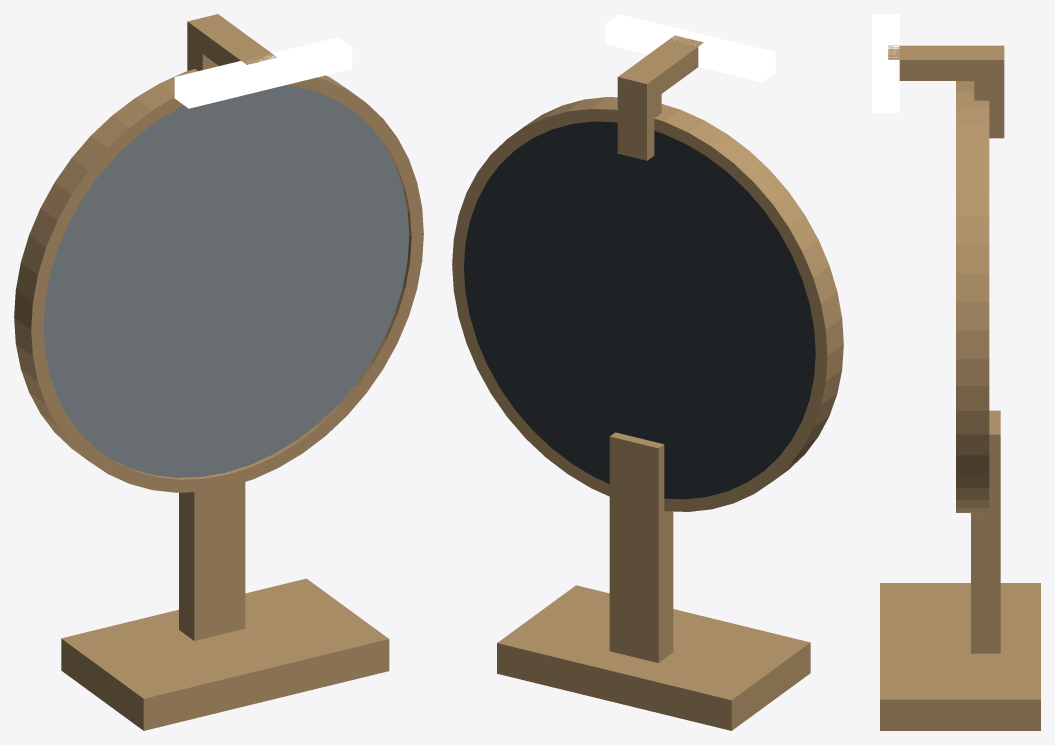
3 renders of one model, left to right at view 1: azimuth 30°, elevation 25°; view 2: azimuth 150°, elevation 25°; view 3: azimuth 270°, elevation 25°, orthographic. The views are drawn at different scales.
Parts seen in each view (by area): view 1: makeup-face-center, makeup-base, makeup-frame-center, makeup-post, makeup-lamp, makeup-lamp-arm, makeup-lamp-riser; view 2: makeup-back-center, makeup-base, makeup-frame-center, makeup-post, makeup-lamp, makeup-lamp-arm, makeup-lamp-riser; view 3: makeup-base, makeup-frame-center, makeup-post, makeup-lamp-arm, makeup-lamp, makeup-lamp-riser.
Boxes of the visible parts, x1,y1,x2,y2 form: makeup-face-center: (43,85,409,477); makeup-base: (61,578,389,730); makeup-frame-center: (14,69,423,492); makeup-post: (179,482,245,640); makeup-lamp: (174,37,352,108); makeup-lamp-arm: (187,14,276,65); makeup-lamp-riser: (187,29,218,70); makeup-back-center: (464,121,815,499); makeup-base: (497,585,810,730); makeup-frame-center: (452,97,843,511); makeup-post: (609,432,673,662); makeup-lamp: (605,14,775,82); makeup-lamp-arm: (617,35,703,104); makeup-lamp-riser: (617,81,661,160); makeup-base: (880,583,1040,730); makeup-frame-center: (956,81,989,512); makeup-post: (971,410,1000,653); makeup-lamp-arm: (888,45,1004,80); makeup-lamp: (872,14,899,112); makeup-lamp-riser: (974,67,1004,138).
Size of the model in its own units: 0.3841 by 0.595 by 0.147.
